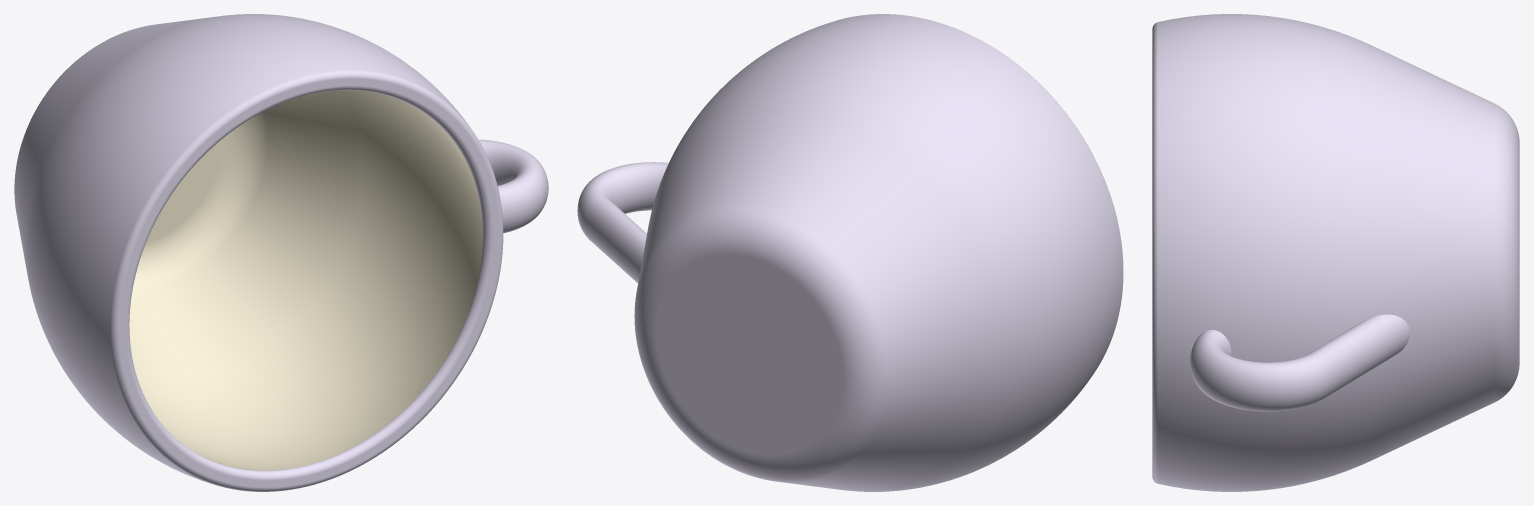
Rendered from Part Studio 1 - Cup Molly.gltf.glb.
3 views of the same model, side by side, from view 1: azimuth 30°, elevation 25°; view 2: azimuth 150°, elevation 25°; view 3: azimuth 270°, elevation 25° (orthographic).
Parts seen in each view (by area): view 1: mesh9_meshnode_9, mesh5_meshnode_5, mesh10_meshnode_10, mesh11_meshnode_11, mesh8_meshnode_8, mesh6_meshnode_6, mesh7_meshnode_7, mesh2_meshnode_2, mesh4_meshnode_4, mesh12_meshnode_12; view 2: mesh5_meshnode_5, mesh2_meshnode_2, mesh0_meshnode_0, mesh1_meshnode_1, mesh4_meshnode_4, mesh3_meshnode_3; view 3: mesh5_meshnode_5, mesh2_meshnode_2, mesh4_meshnode_4, mesh1_meshnode_1, mesh3_meshnode_3, mesh6_meshnode_6.
Part boxes in pixels (x1,y1,x2,y2): mesh9_meshnode_9: [136, 90, 482, 470]; mesh5_meshnode_5: [25, 14, 469, 482]; mesh10_meshnode_10: [129, 90, 365, 378]; mesh11_meshnode_11: [132, 111, 267, 291]; mesh8_meshnode_8: [126, 85, 493, 480]; mesh6_meshnode_6: [110, 70, 503, 491]; mesh7_meshnode_7: [119, 78, 499, 487]; mesh2_meshnode_2: [14, 16, 215, 274]; mesh4_meshnode_4: [479, 139, 548, 233]; mesh12_meshnode_12: [146, 140, 221, 242]; mesh5_meshnode_5: [650, 14, 1123, 491]; mesh2_meshnode_2: [637, 112, 997, 491]; mesh0_meshnode_0: [656, 254, 842, 455]; mesh1_meshnode_1: [634, 209, 888, 482]; mesh4_meshnode_4: [577, 162, 668, 240]; mesh3_meshnode_3: [585, 199, 646, 282]; mesh5_meshnode_5: [1158, 14, 1371, 491]; mesh2_meshnode_2: [1372, 45, 1494, 460]; mesh4_meshnode_4: [1190, 330, 1332, 411]; mesh1_meshnode_1: [1494, 103, 1519, 402]; mesh3_meshnode_3: [1311, 314, 1409, 396]; mesh6_meshnode_6: [1152, 22, 1157, 483].
Size of the model in its own units: 0.1565 by 0.1301 by 0.1.
